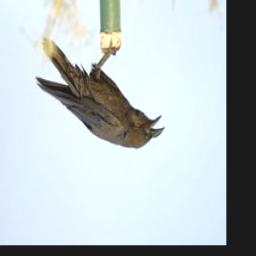Crow: (33, 37, 167, 156)
